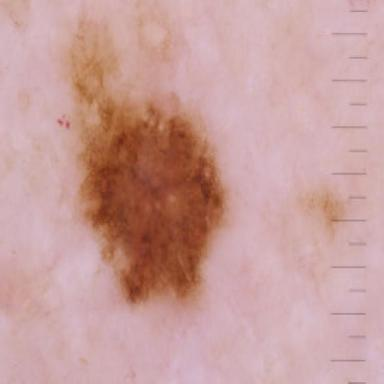Melanoma: (72, 19, 226, 302)
